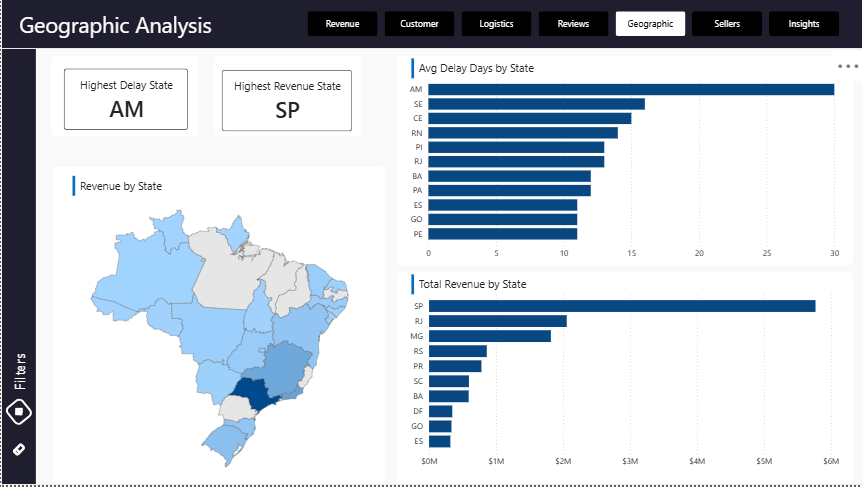

The page's visual inventory and layout, read from the dashboard file:
{"tool":"powerbi","page":{"name":"Geographic","canvas":[1280,720],"ordinal":4},"visuals":[{"type":"shape","box":[0,0,51.7,720],"z":0,"group":"g1"},{"type":"textbox","box":[614.7,86.7,320,38],"z":0,"group":"g3"},{"type":"textbox","box":[111.3,260,320,38],"z":0,"group":"g2"},{"type":"shape","box":[585.6,403.3,676.7,316.7],"z":0},{"type":"textbox","box":[613,405,320,38],"z":0,"group":"g4"},{"type":"shape","box":[0,0,1280,74],"z":1000,"group":"g1"},{"type":"shape","box":[585,83.3,676.7,311.7],"z":1000},{"type":"shape","box":[576.7,88.7,67.9,29.4],"z":1000,"group":"g3"},{"type":"shape","box":[73.3,262,67.9,29.4],"z":1000,"group":"g2"},{"type":"shape","box":[575,407,67.9,29.4],"z":1000,"group":"g4"},{"type":"textbox","box":[22,10,322,54],"z":2000,"group":"g1"},{"type":"shape","box":[76.7,248.3,493.3,471.7],"z":2000},{"type":"shape","box":[313,83,220,120],"z":3000},{"type":"actionButton","box":[7.1,647.1,37.1,38.6],"z":3000,"group":"g1"},{"type":"shape","box":[73.3,83.3,220,120],"z":4000},{"type":"actionButton","box":[4.1,576.2,45,70.8],"z":4000,"group":"g1"},{"type":"pageNavigator","box":[454.3,18.6,791.4,37.1],"z":5000,"group":"g1"},{"type":"shapeMap","fields":{"Value":["olist_orders_dataset.Total Net Revenue"],"Category":["customers_dataset.State Full Name"]},"box":[85,286.7,475,433.3],"z":5000},{"type":"barChart","fields":{"Category":["customers_dataset.customer_state"],"Y":["olist_orders_dataset.Total Net Revenue"]},"box":[598.3,423.3,648.3,278.3],"z":6000},{"type":"actionButton","box":[5.4,508.1,42.2,88.5],"z":6000,"group":"g1"},{"type":"barChart","fields":{"Category":["v_state_delivery_summary.state"],"Y":["Avg(v_state_delivery_summary.avg_delay_days)"]},"box":[598.3,103.3,648.3,290],"z":7000},{"type":"cardVisual","fields":{"Data":["v_state_delivery_summary.Highest Delay State"]},"box":[75,86.7,218.3,125],"z":8000},{"type":"cardVisual","fields":{"Data":["v_state_delivery_summary.Highest Revenue State"]},"box":[309,87,227,125],"z":9000},{"type":"group","id":"g1","title":"Group 2","box":[0,0,1280,720],"z":10000},{"type":"group","id":"g2","title":"Group 3","box":[73.3,260,358.3,36.7],"z":11000},{"type":"group","id":"g3","title":"Group 3","box":[576.7,86.7,358.3,36.7],"z":12000},{"type":"group","id":"g4","title":"Group 3","box":[575,405,358.3,36.7],"z":13000}]}

Visuals, with their boxes in screenshot pixels (x1, y1, x2, y2), scaled from the page's 1280x720 canvas onto the 862x487 screenshot:
shape: 0,0,35,486
textbox: 414,59,629,84
textbox: 75,176,290,202
shape: 394,273,850,486
textbox: 413,274,628,300
shape: 0,0,861,50
shape: 394,56,850,267
shape: 388,60,434,80
shape: 49,177,95,197
shape: 387,275,433,295
textbox: 15,7,232,43
shape: 52,168,384,486
shape: 211,56,359,137
actionButton: 5,438,30,464
shape: 49,56,198,138
actionButton: 3,390,33,438
pageNavigator: 306,13,839,38
shapeMap - olist_orders_dataset.Total Net Revenue x customers_dataset.State Full Name: 57,194,377,486
barChart - customers_dataset.customer_state x olist_orders_dataset.Total Net Revenue: 403,286,840,475
actionButton: 4,344,32,404
barChart - v_state_delivery_summary.state x Avg(v_state_delivery_summary.avg_delay_days): 403,70,840,266
cardVisual - v_state_delivery_summary.Highest Delay State: 51,59,198,143
cardVisual - v_state_delivery_summary.Highest Revenue State: 208,59,361,143
"Group 2" group: 0,0,861,486
"Group 3" group: 49,176,291,201
"Group 3" group: 388,59,630,83
"Group 3" group: 387,274,629,299
